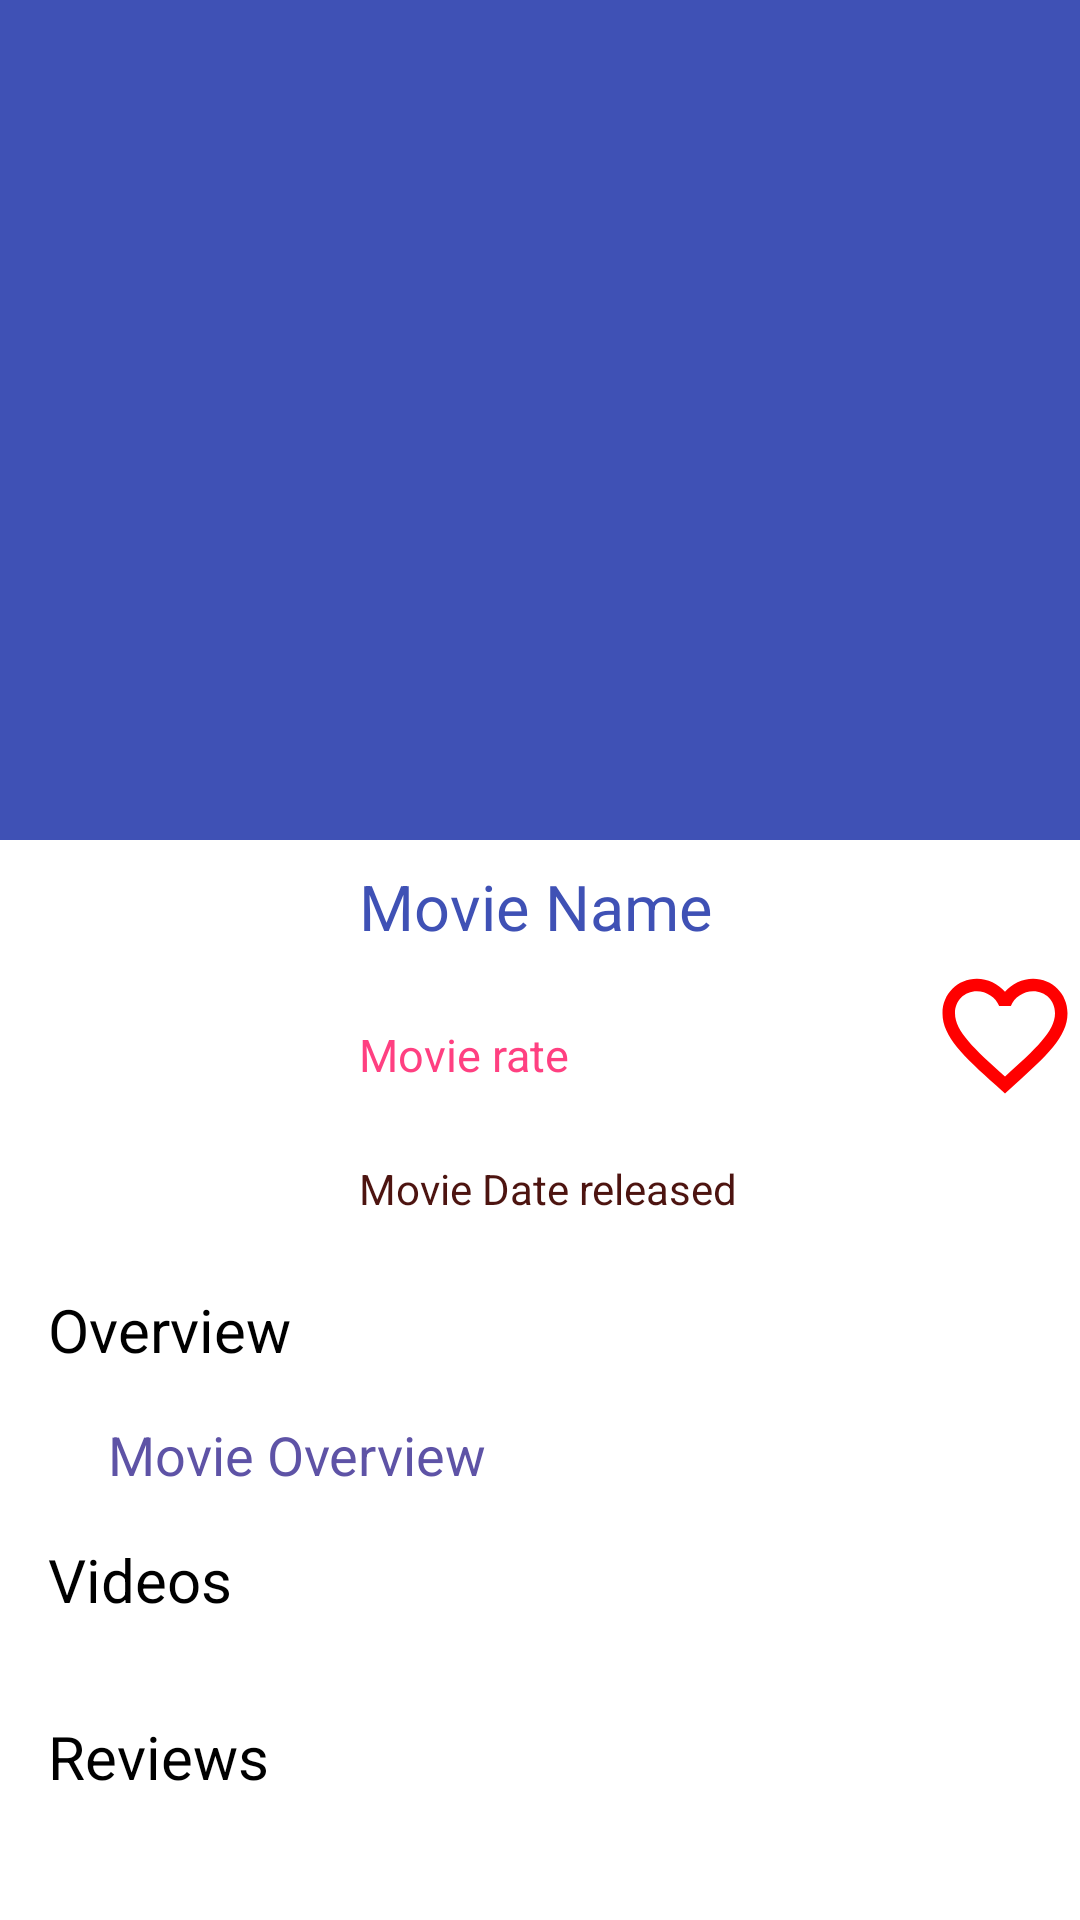

Screen size 1080px x 1920px. Icon name, then its box in pixels as (x1, y1, x2, y2):
favorite empty: (942, 978, 1068, 1094)
